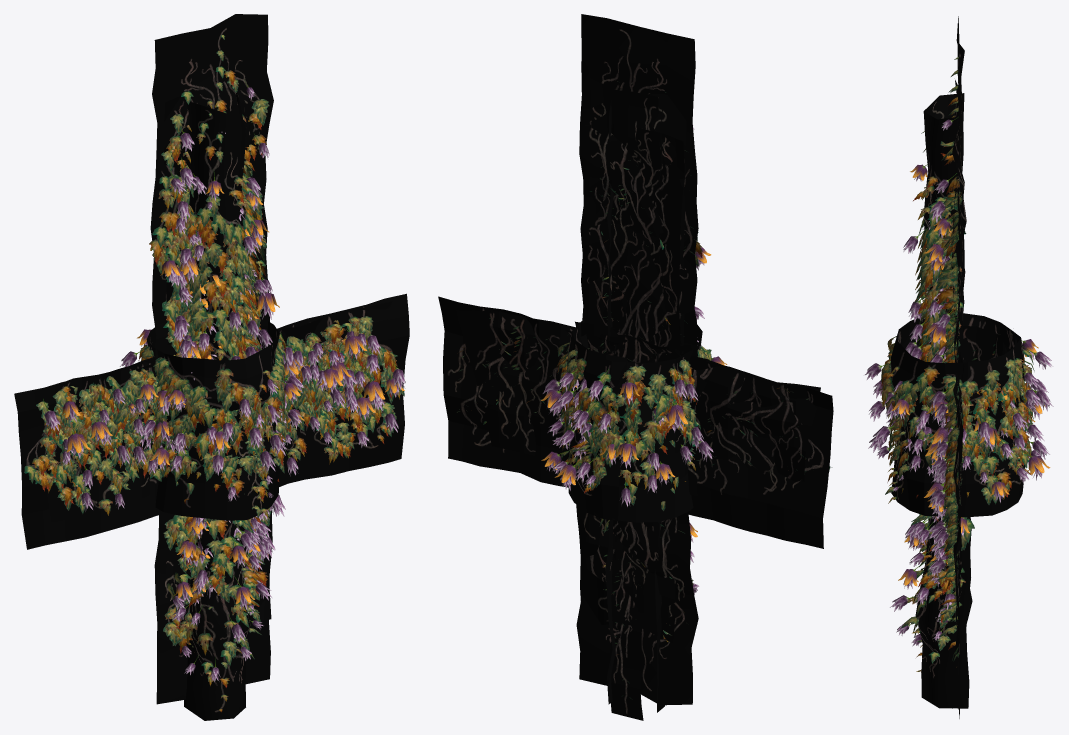
File: IvyFlowering_V.FBX
3 views of the same model, side by side, from view 1: azimuth 30°, elevation 25°; view 2: azimuth 150°, elevation 25°; view 3: azimuth 270°, elevation 25° (orthographic). The views are drawn at different scales.
Parts seen in each view (by area): view 1: IvyWallWD_1_FV, IvyCyllUW_2_FV, IvyWallU_2_FV, IvyCyllU_FV, IvyWallWD_2_FV, IvyCyllD_FV, IvyWallD_1_FV, IvyWallU_1_FV, IvyCyllUW_1_FV, IvyWallU_3_FV, IvyWallD_2_FV, IvyWallCD_1_FV; view 2: IvyWallWD_1_FV, IvyWallU_2_FV, IvyCyllUW_2_FV, IvyWallWD_2_FV, IvyWallD_1_FV, IvyWallU_3_FV, IvyWallU_1_FV, IvyWallD_6_FV, IvyWallD_2_FV, IvyCyllUW_1_FV, IvyCyllD_FV, IvyWallD_3_FV (+4 smaller); view 3: IvyCyllUW_2_FV, IvyCyllD_FV, IvyCyllU_FV, IvyWallWD_1_FV, IvyWallU_2_FV, IvyWallU_1_FV, IvyCyllUW_1_FV, IvyWallD_1_FV, IvyWallWD_2_FV, IvyWallU_3_FV, IvyWallCD_1_FV.
Part boxes in pixels (x1,y1,x2,y2): IvyWallWD_1_FV: (14, 293, 409, 549); IvyCyllUW_2_FV: (120, 321, 304, 520); IvyWallU_2_FV: (149, 14, 273, 362); IvyCyllU_FV: (171, 93, 267, 380); IvyWallWD_2_FV: (34, 301, 392, 522); IvyCyllD_FV: (172, 516, 271, 720); IvyWallD_1_FV: (154, 353, 285, 704); IvyWallU_1_FV: (163, 96, 279, 358); IvyCyllUW_1_FV: (144, 341, 286, 497); IvyWallU_3_FV: (167, 117, 259, 359); IvyWallD_2_FV: (173, 330, 281, 623); IvyWallCD_1_FV: (142, 322, 305, 414); IvyWallWD_1_FV: (438, 296, 833, 548); IvyWallU_2_FV: (579, 14, 711, 401); IvyCyllUW_2_FV: (541, 319, 727, 522); IvyWallWD_2_FV: (456, 309, 820, 514); IvyWallD_1_FV: (575, 321, 698, 705); IvyWallU_3_FV: (605, 118, 684, 361); IvyWallU_1_FV: (588, 77, 704, 362); IvyWallD_6_FV: (610, 320, 644, 720); IvyWallD_2_FV: (579, 335, 675, 643); IvyCyllUW_1_FV: (561, 334, 701, 511); IvyCyllD_FV: (600, 344, 697, 712); IvyWallD_3_FV: (593, 322, 679, 599); IvyCyllUW_2_FV: (865, 313, 1053, 517); IvyCyllD_FV: (890, 337, 974, 708); IvyCyllU_FV: (903, 93, 966, 362); IvyWallWD_1_FV: (924, 374, 963, 590); IvyWallU_2_FV: (924, 16, 966, 370); IvyWallU_1_FV: (923, 80, 961, 362); IvyCyllUW_1_FV: (881, 326, 1035, 497); IvyWallD_1_FV: (926, 327, 964, 709); IvyWallWD_2_FV: (927, 291, 964, 548); IvyWallU_3_FV: (926, 139, 964, 363); IvyWallCD_1_FV: (929, 373, 958, 420).
Bounding box in the file's own units: 183 × 310 × 80.57.
